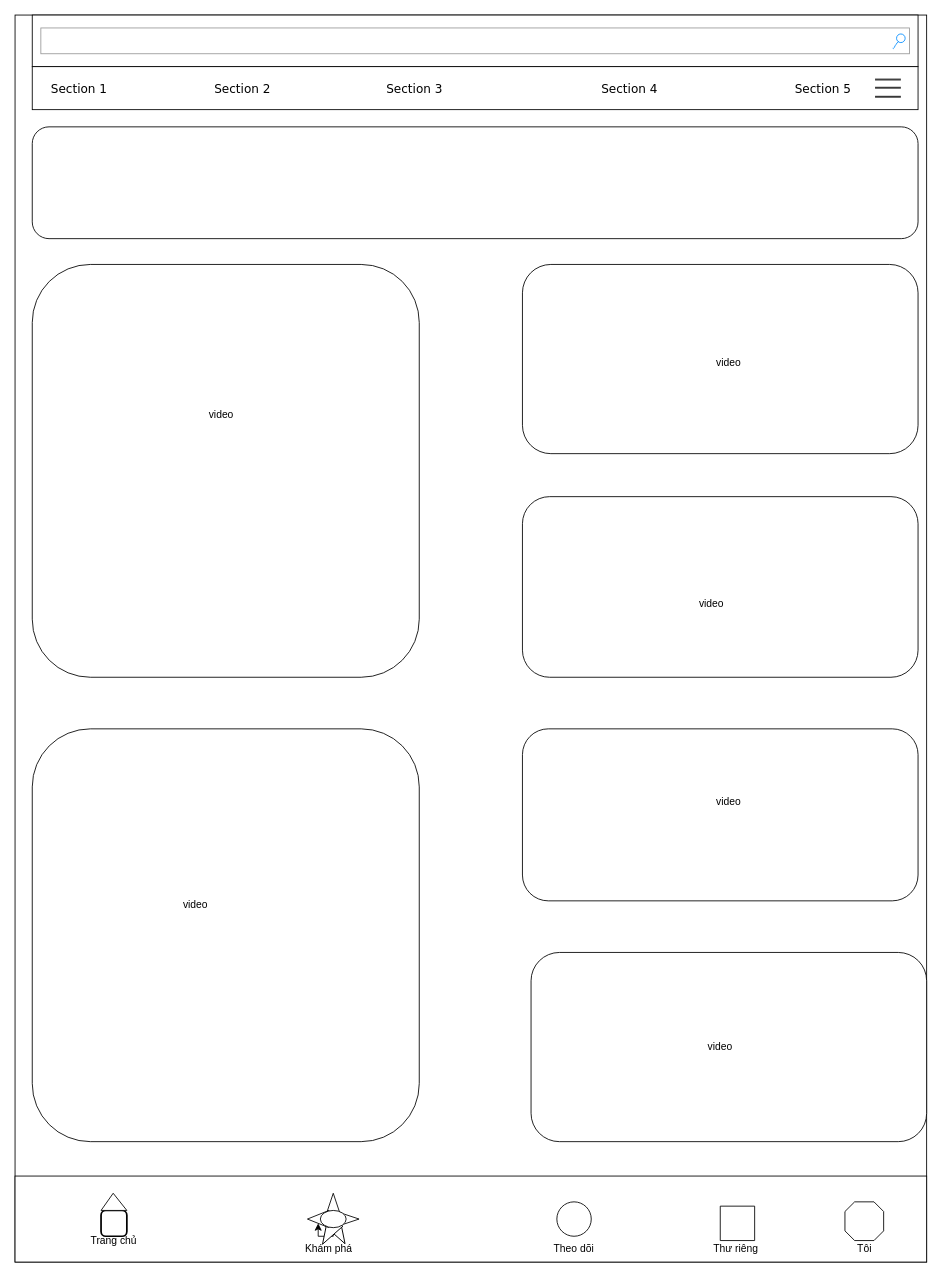
The diagram is 942 pixels wide and 1277 high, and some of its shapes have lost their labels. The shapes that lost their labels are listed below. From the top down, each one's centre as x and y in pixels, then its label:
(x=474, y=40): Search
(x=474, y=182): Ảnh
